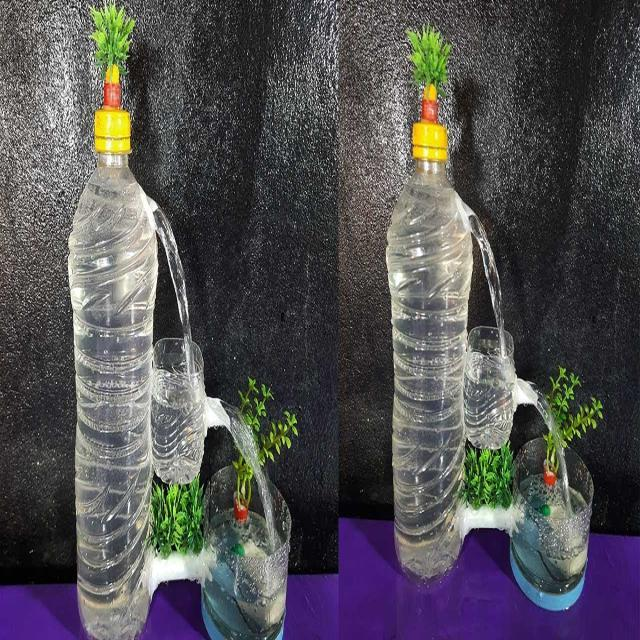Plastic: (68, 5, 158, 640), (386, 27, 474, 582)
